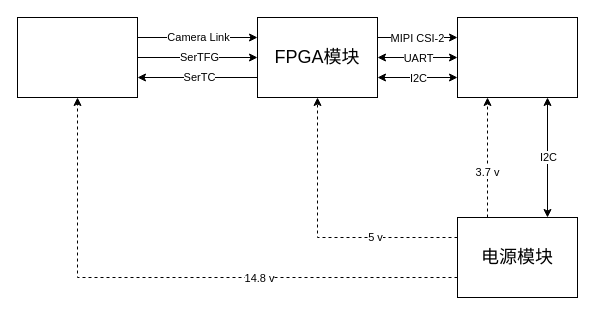
The diagram is 595 pixels wide and 315 high, and some of its shapes have lost their labels. The shapes that lost their labels are listed below. From the top down, each one's centre as x and y in pixels, then its label:
(x=77, y=57): Camera Link 工业相机
(x=517, y=57): ARM芯片
